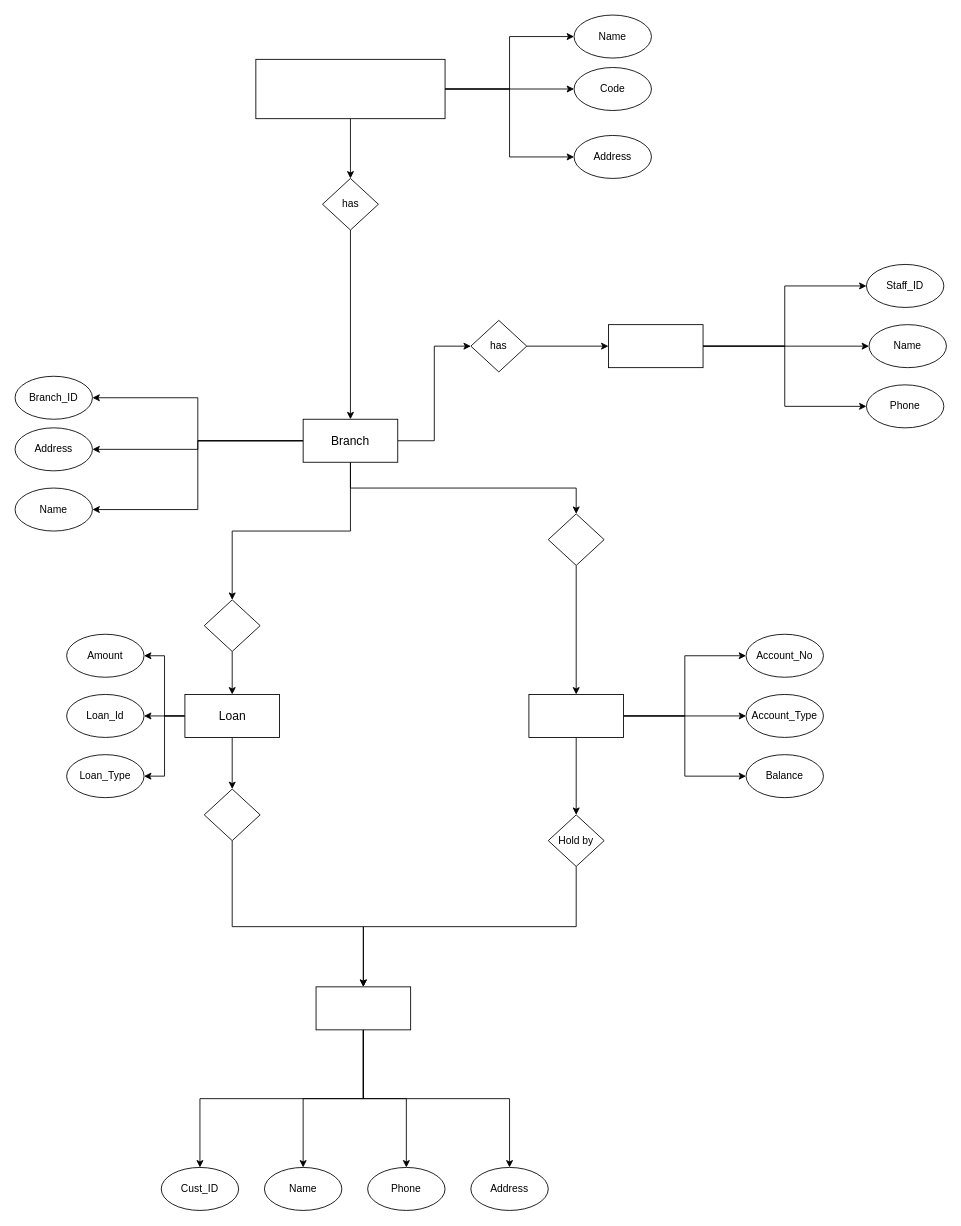
The diagram is 961 pixels wide and 1226 high, and some of its shapes have lost their labels. Each missing label, with the centre of its shape:
"Account" belongs at point (576, 715).
"Availed by" belongs at point (231, 814).
"Bank" belongs at point (350, 88).
"Customer" belongs at point (363, 1008).
"Maintain" belongs at point (575, 539).
"Offer" belongs at point (231, 625).
"Staff" belongs at point (655, 346).
